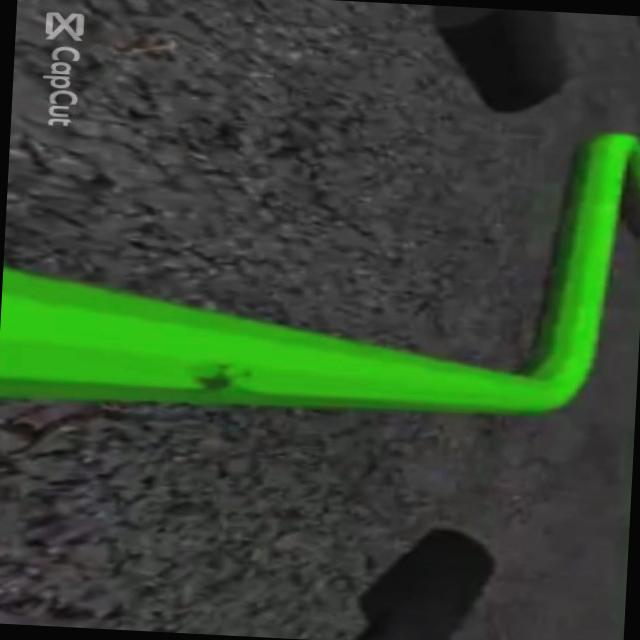gas: (0, 267, 610, 433), (511, 187, 625, 425)
